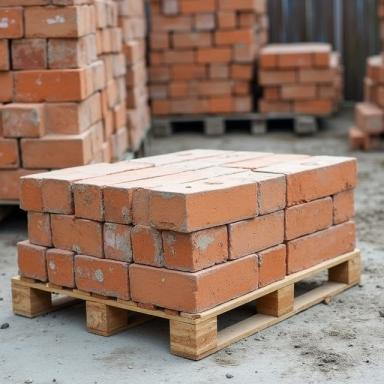pallet: (11, 249, 361, 361), (152, 113, 318, 138)
